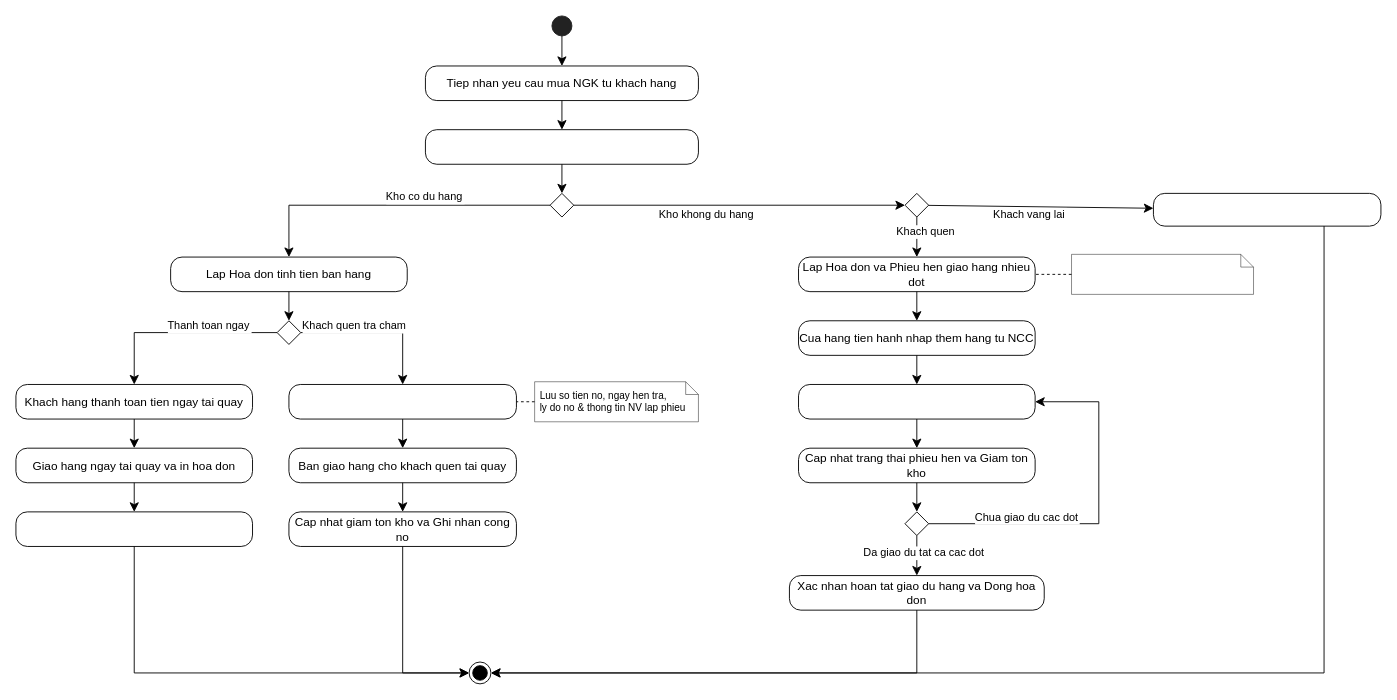
The diagram is 1397 pixels wide and 700 high, and some of its shapes have lost their labels. The shapes that lost their labels are listed below. From the top down, each one's centre as x and y in pixels, then its label:
the point at 561,146: Kiem tra so luong ton kho trong he thong
the point at 1267,209: Thong bao het hang va Tu choi yeu cau
the point at 1162,274: Luu thong tin hoa don & phieu hen de phuc vu tra cuu va thong ke
the point at 402,401: Lap Phieu ghi no cho Khach quen
the point at 916,401: Xuat kho ban giao hang theo tung dot hen
the point at 134,528: He thong tu dong cap nhat giam ton kho
